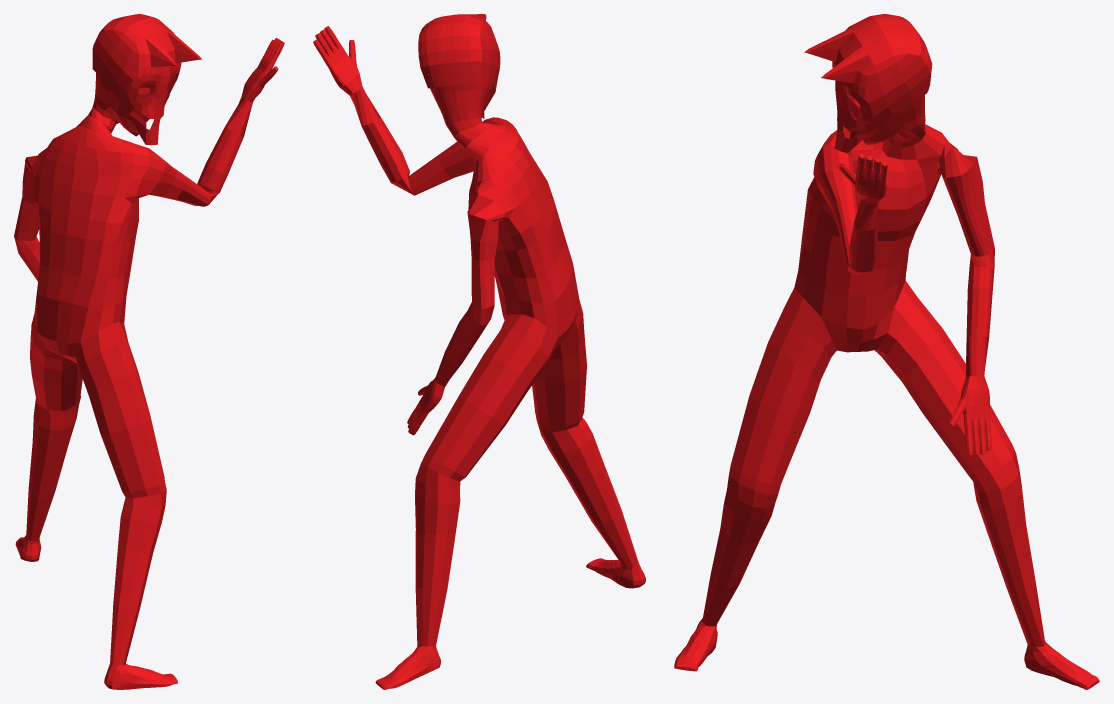
Rendered from activaAlarma_000119.obj.
The picture shows the model from 3 angles, left to right: view 1: azimuth 30°, elevation 25°; view 2: azimuth 150°, elevation 25°; view 3: azimuth 270°, elevation 25°; orthographic projection. The views are drawn at different scales.
Parts seen in each view (by area): view 1: Plane.002_Plane.001; view 2: Plane.002_Plane.001; view 3: Plane.002_Plane.001.
Part boxes in pixels (x1,y1,x2,y2): Plane.002_Plane.001: (14, 14, 284, 689); Plane.002_Plane.001: (313, 14, 645, 689); Plane.002_Plane.001: (674, 14, 1099, 689).
Size of the model in its own units: 2.91 by 6.62 by 3.76.
